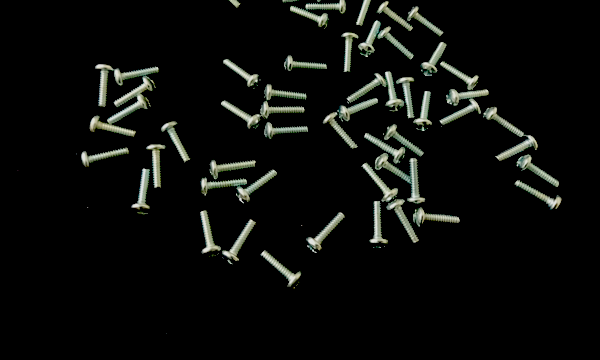shortscrew: (260, 250, 304, 292), (306, 212, 347, 256), (221, 219, 256, 267), (235, 169, 279, 206), (387, 199, 421, 246), (362, 162, 399, 205), (515, 181, 563, 213), (323, 112, 360, 153), (516, 156, 561, 189), (113, 75, 156, 109), (107, 94, 151, 127), (383, 124, 424, 159), (483, 106, 525, 140), (160, 121, 192, 165), (220, 100, 262, 133), (364, 133, 407, 165), (378, 26, 416, 62), (494, 134, 539, 163), (437, 100, 482, 129), (347, 73, 387, 105), (80, 148, 129, 174), (439, 61, 480, 92), (376, 0, 414, 33), (198, 210, 223, 260), (223, 59, 262, 91), (407, 6, 444, 39), (289, 5, 332, 32), (338, 96, 379, 124), (89, 115, 138, 138), (374, 154, 410, 184), (199, 176, 248, 198), (367, 201, 389, 250), (405, 159, 427, 208), (131, 168, 152, 217), (146, 143, 167, 192), (420, 41, 446, 80), (209, 160, 257, 181), (412, 208, 461, 228), (94, 64, 116, 108), (284, 55, 328, 77), (264, 122, 310, 143), (383, 71, 406, 113), (114, 66, 159, 87), (261, 100, 306, 121), (356, 21, 381, 58), (397, 75, 417, 120), (262, 83, 309, 102), (446, 88, 489, 108), (339, 32, 359, 74), (414, 91, 433, 132), (306, 0, 348, 17), (356, 0, 378, 29), (206, 0, 243, 12), (283, 0, 324, 7)
